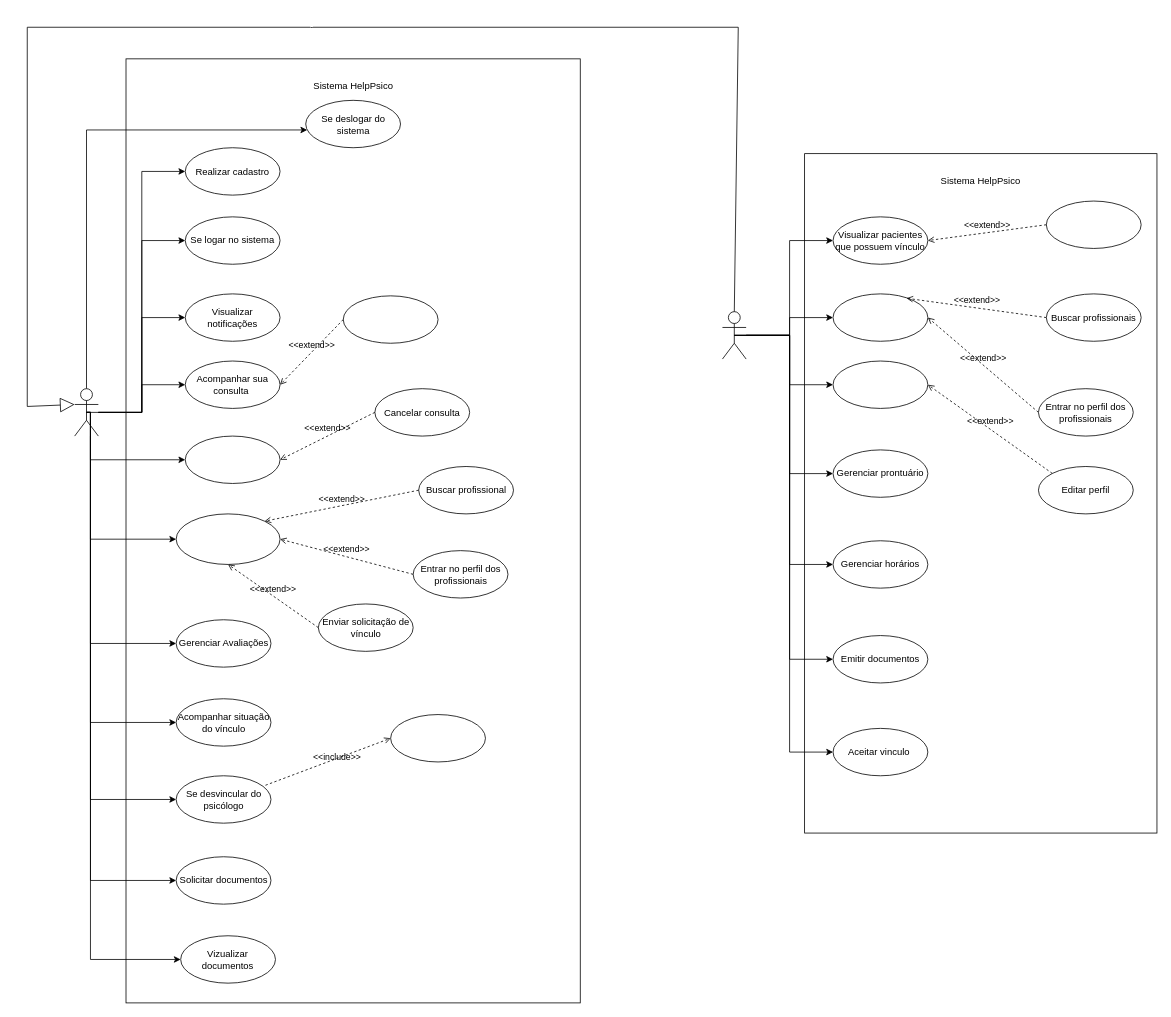
The diagram is 1171 pixels wide and 1017 high, and some of its shapes have lost their labels. The shapes that lost their labels are listed below. From the top down, each one's centre as x and y in pixels, then its label:
pixel 1093 224: Gerenciar vinculos
pixel 390 319: Visualizar Histórico
pixel 734 335: Psicólogo
pixel 880 317: Ver listagem dos profissionais
pixel 880 384: Ver perfil
pixel 86 412: Paciente
pixel 232 459: Agendar consulta
pixel 227 538: Acessar listagem dos profissionais
pixel 437 738: Avaliar psicólogo
